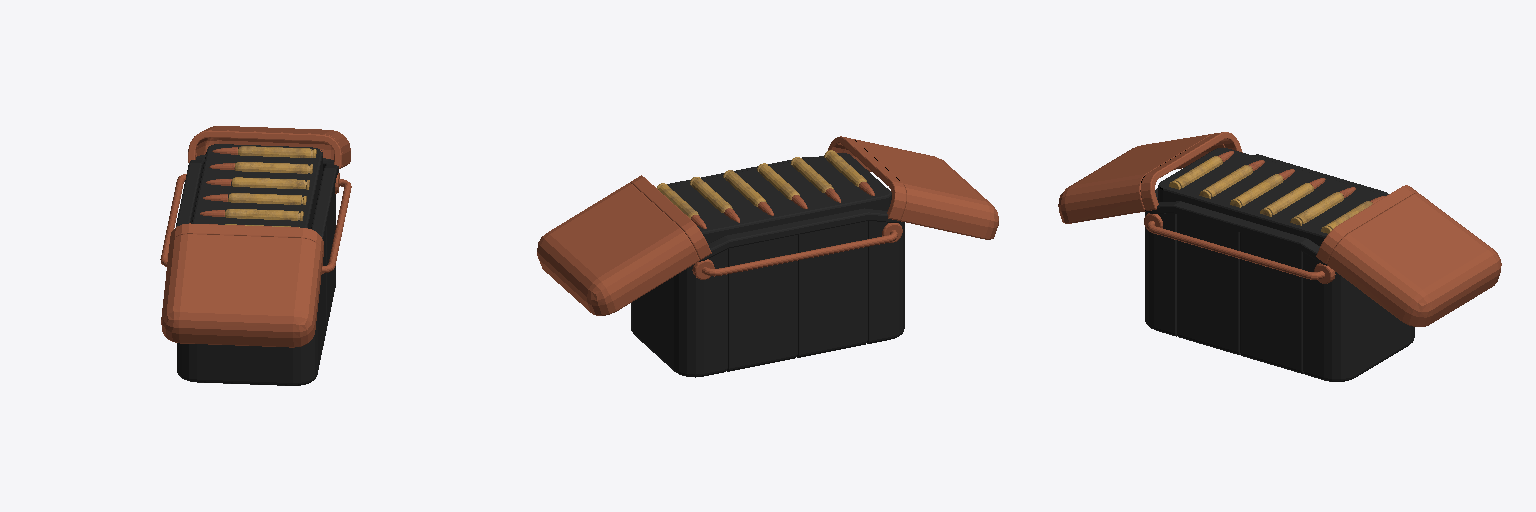
3 views of the same model, side by side, from view 1: azimuth 30°, elevation 25°; view 2: azimuth 150°, elevation 25°; view 3: azimuth 270°, elevation 25° (orthographic).
Visible parts, largest first — view 1: BC_Light_Main BC_Set BulletsCase_Light, Bullets_Light BC_Light_Main BC_Set; view 2: BC_Light_Main BC_Set BulletsCase_Light, Bullets_Light BC_Light_Main BC_Set; view 3: BC_Light_Main BC_Set BulletsCase_Light, Bullets_Light BC_Light_Main BC_Set.
Part boxes in pixels (bbox=[...]): BC_Light_Main BC_Set BulletsCase_Light: bbox=[160, 126, 351, 385]; Bullets_Light BC_Light_Main BC_Set: bbox=[200, 146, 316, 227]; BC_Light_Main BC_Set BulletsCase_Light: bbox=[537, 136, 998, 377]; Bullets_Light BC_Light_Main BC_Set: bbox=[657, 150, 874, 228]; BC_Light_Main BC_Set BulletsCase_Light: bbox=[1058, 132, 1501, 381]; Bullets_Light BC_Light_Main BC_Set: bbox=[1169, 151, 1385, 233].
Size of the model in its own units: 0.2542 by 0.1166 by 0.3052.
4 materials, 3 textured.